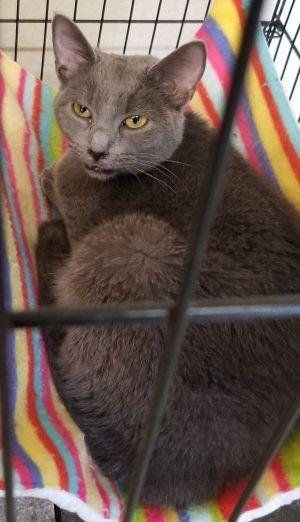rblue: (37, 1, 219, 204)
